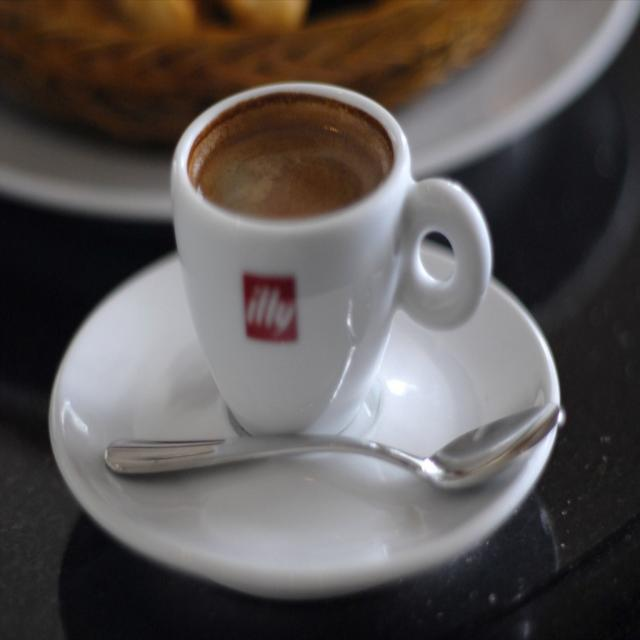Coffee: (188, 96, 392, 220)
Tea: (185, 93, 389, 225)
